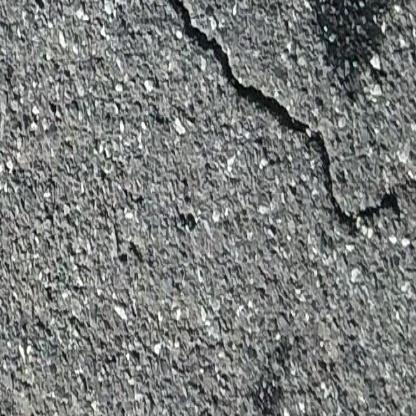Cracks: (146, 0, 416, 241)
